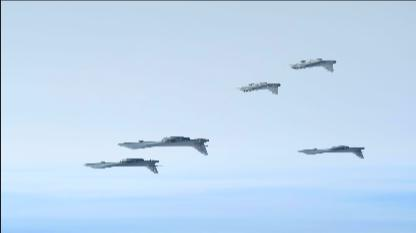AV8B: (116, 135, 214, 153), (83, 158, 165, 173), (297, 145, 367, 158)
JAS39: (280, 58, 336, 71), (232, 82, 280, 94)
